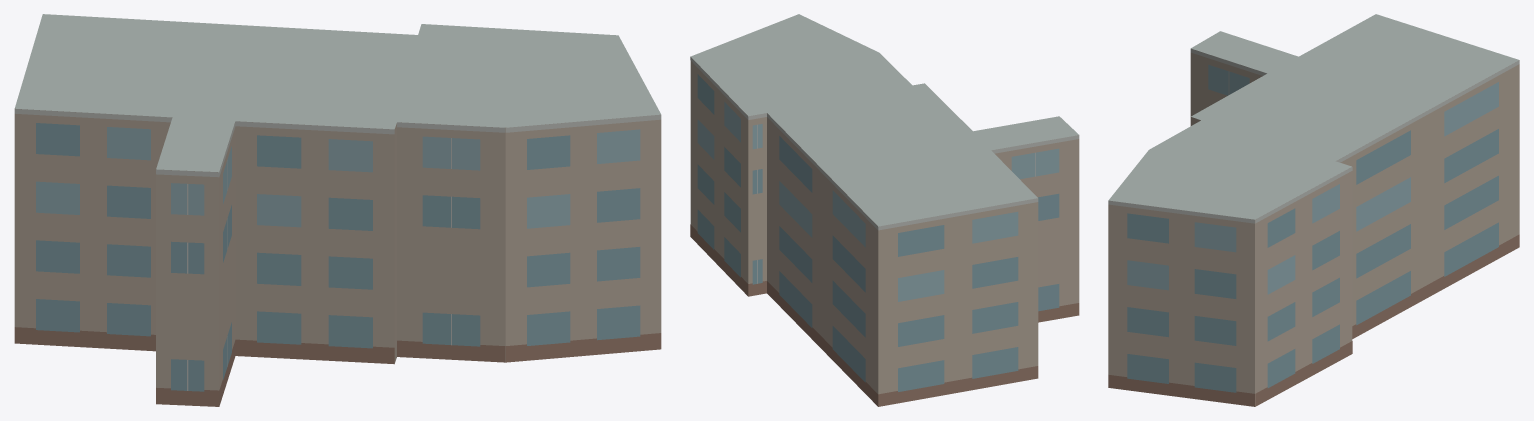
File: survey-upis-32597876.glb
The picture shows the model from 3 angles, left to right: view 1: azimuth 30°, elevation 25°; view 2: azimuth 150°, elevation 25°; view 3: azimuth 270°, elevation 25°; orthographic projection. The views are drawn at different scales.
Visible parts, largest first — view 1: survey-upis-32597876.tmp; view 2: survey-upis-32597876.tmp; view 3: survey-upis-32597876.tmp.
Boxes of the visible parts, box(x1,y1,x2,y2) form: survey-upis-32597876.tmp: box(14, 14, 661, 406); survey-upis-32597876.tmp: box(690, 14, 1079, 406); survey-upis-32597876.tmp: box(1108, 14, 1519, 406).
Size of the model in its own units: 26.79 by 11.37 by 22.64.
